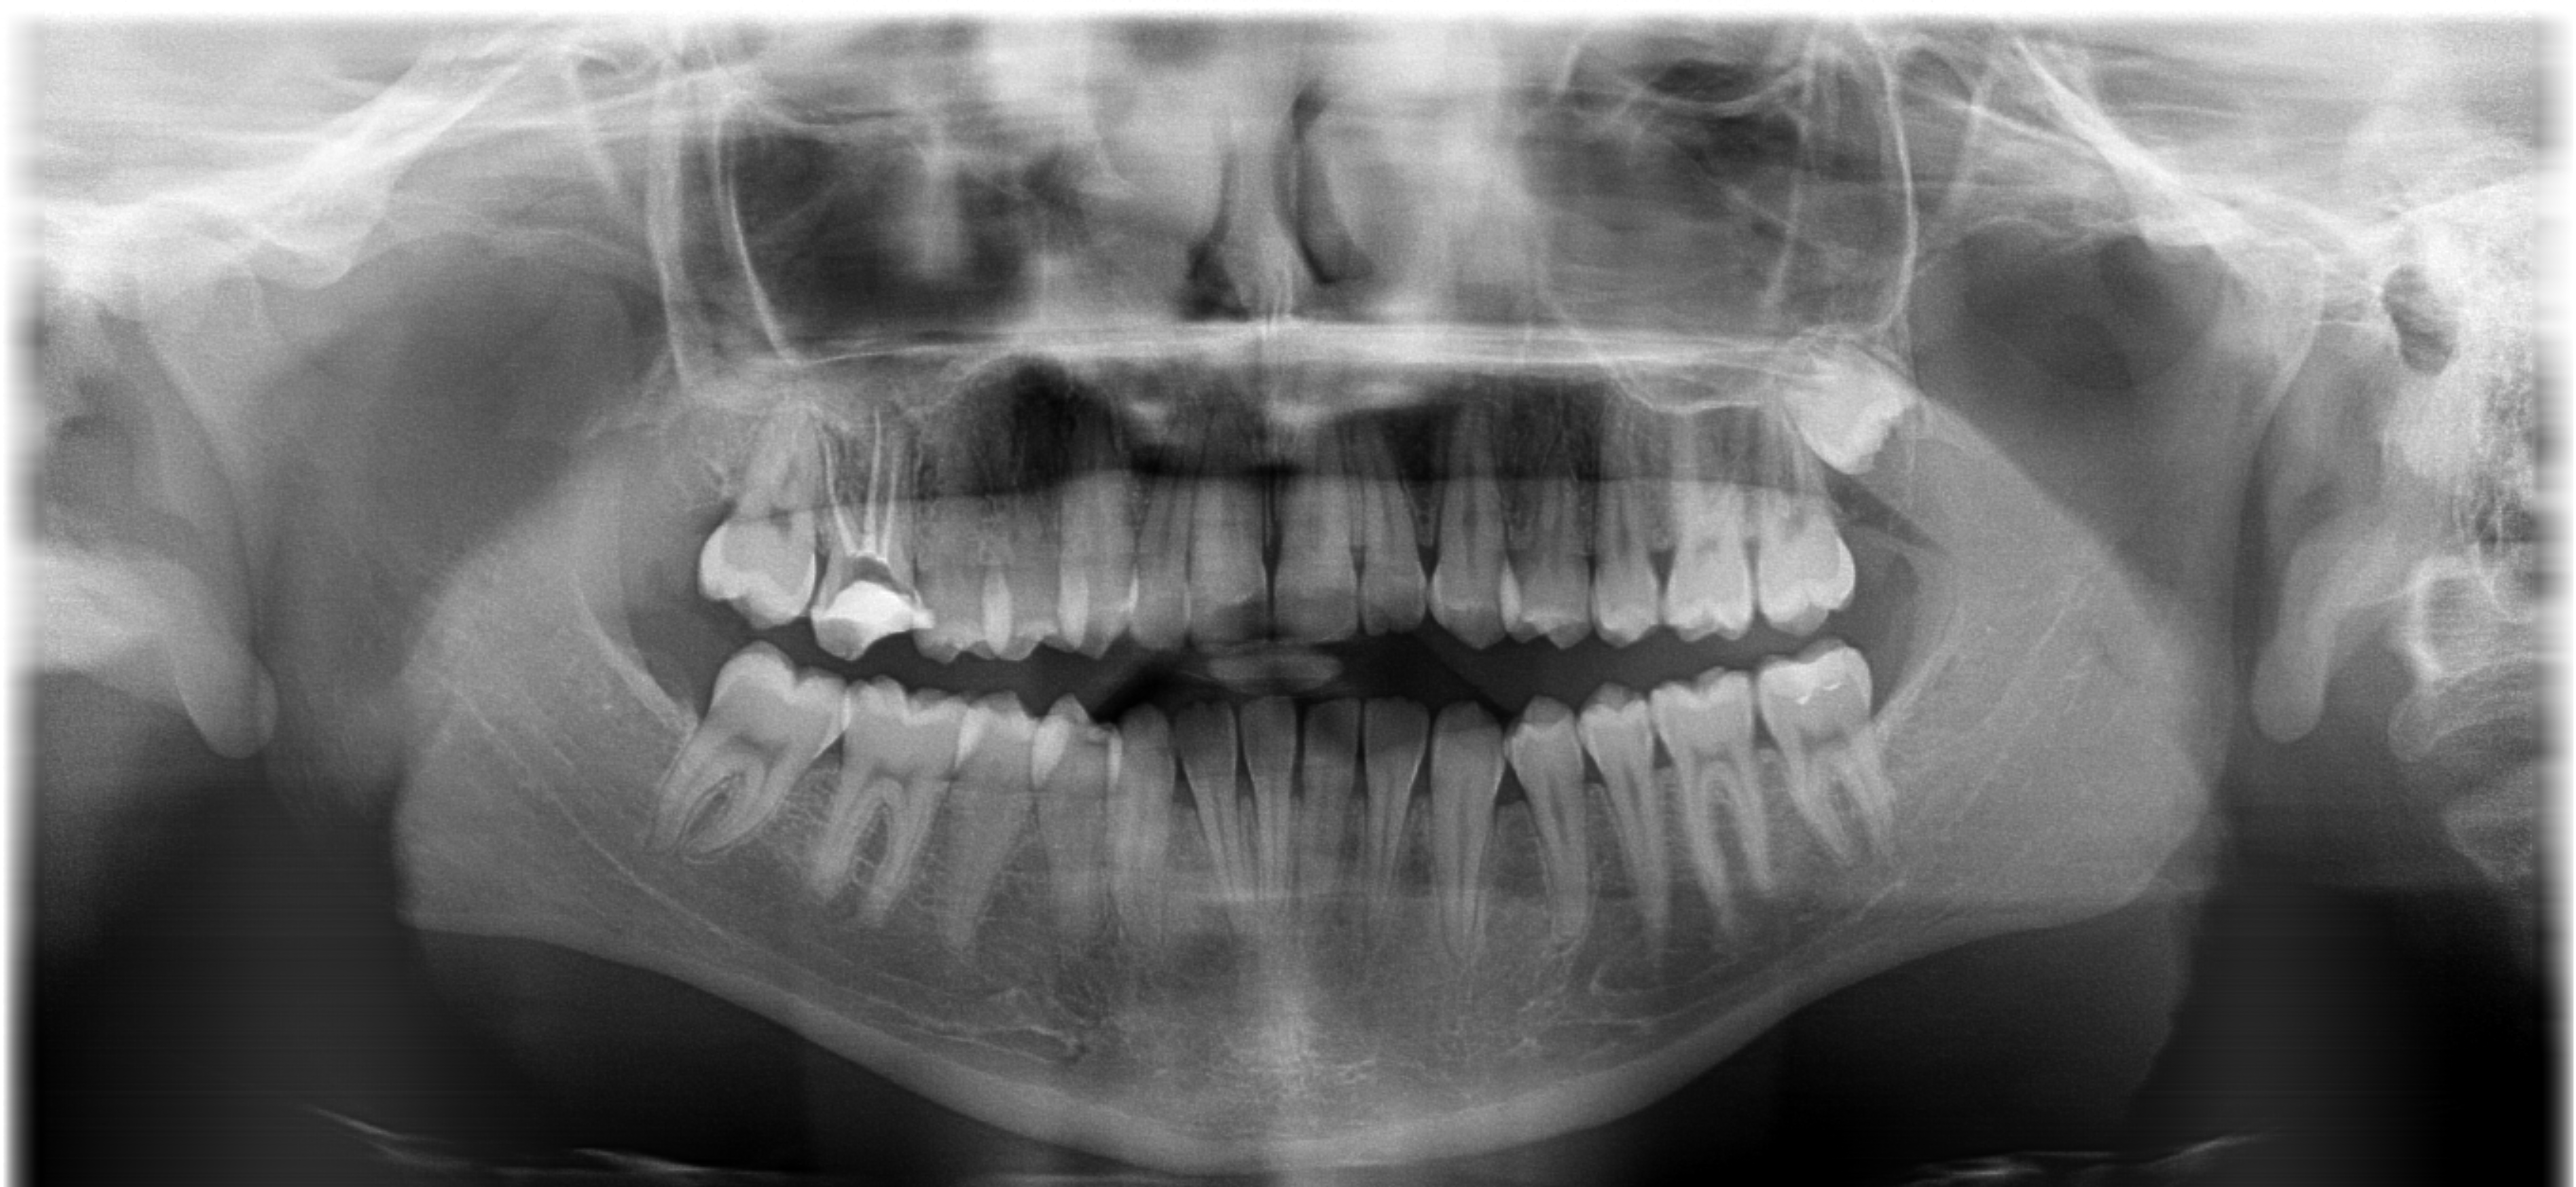apinamiento: (954, 539, 1206, 671), (953, 690, 1201, 809)
cordal: (1758, 311, 1958, 503)
tratamiento_conducto: (784, 390, 951, 674)
